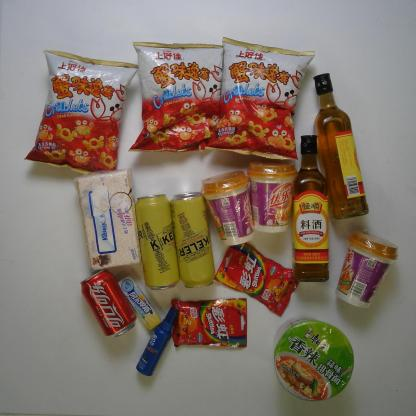Alcohol: (169, 192, 216, 289), (135, 194, 180, 290)
Candy: (214, 241, 300, 317), (170, 298, 249, 348), (118, 276, 162, 330)
Drink: (78, 269, 137, 338)
Instant Drink: (333, 231, 399, 311), (199, 170, 255, 246), (247, 158, 298, 234)
Instant Noodles: (274, 319, 355, 402)
Personal Hygiene: (135, 306, 180, 378)
Puffed Food: (22, 49, 140, 177), (205, 36, 316, 162), (127, 41, 224, 154)
Seasoner: (314, 73, 371, 219), (291, 134, 331, 284)
Tissue: (72, 169, 142, 272)
